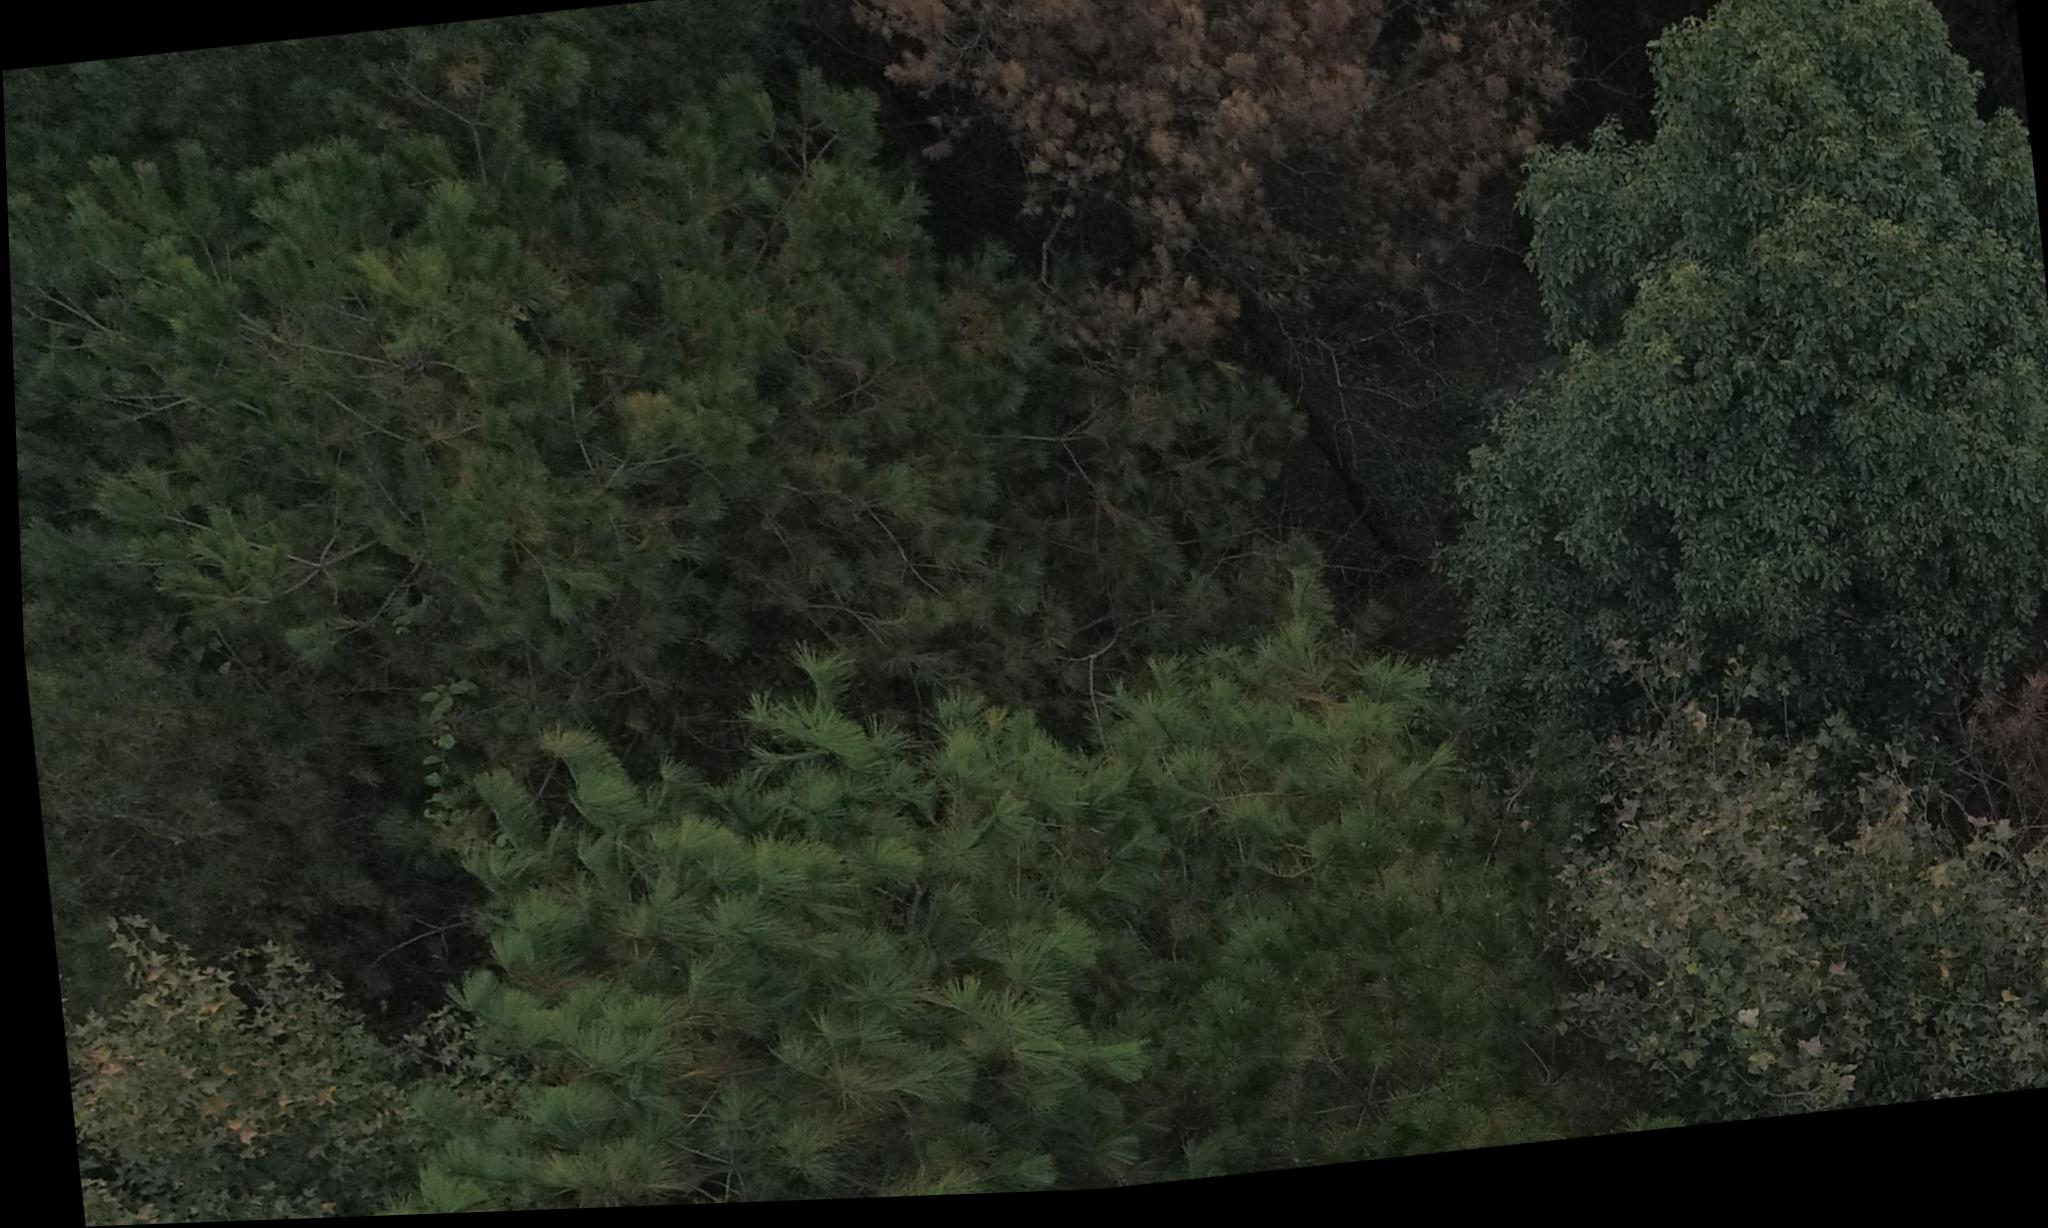heavy: (868, 0, 1628, 361)
